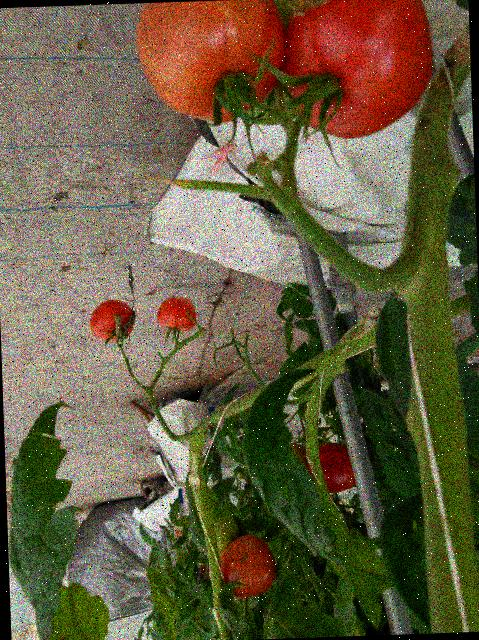b_fully_ripened: (277, 0, 435, 141), (306, 440, 355, 494), (88, 299, 135, 343), (156, 297, 197, 332)
b_green: (213, 517, 240, 557)
b_half_ripened: (133, 0, 288, 128), (208, 533, 276, 601)
